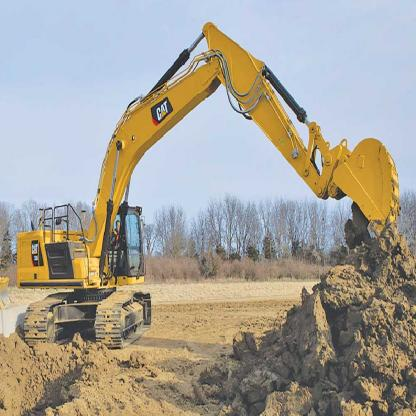excavator: (13, 12, 412, 341)
